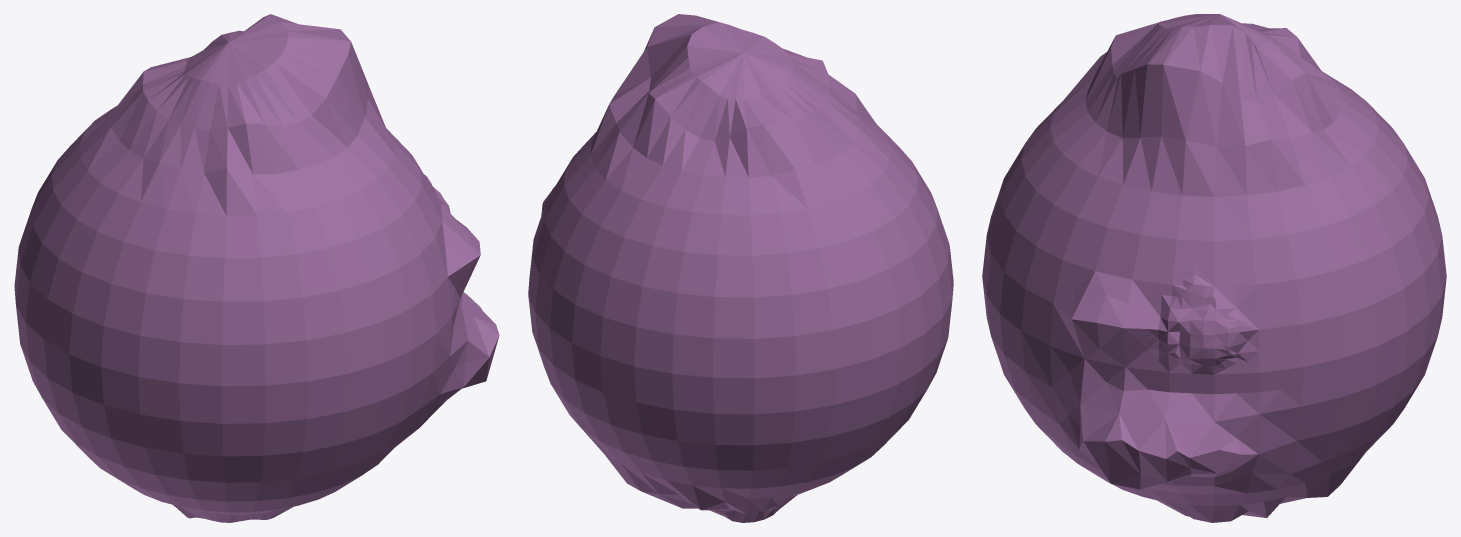
File: child_Blob3.fbx
3 views of the same model, side by side, from view 1: azimuth 30°, elevation 25°; view 2: azimuth 150°, elevation 25°; view 3: azimuth 270°, elevation 25° (orthographic). The views are drawn at different scales.
Parts seen in each view (by area): view 1: Sphere.005; view 2: Sphere.005; view 3: Sphere.005.
Boxes of the visible parts, <box> form: Sphere.005: <box>14,14,499,522</box>; Sphere.005: <box>528,14,953,522</box>; Sphere.005: <box>982,14,1446,522</box>.
Size of the model in its own units: 0.9757 by 1.08 by 0.8955.
